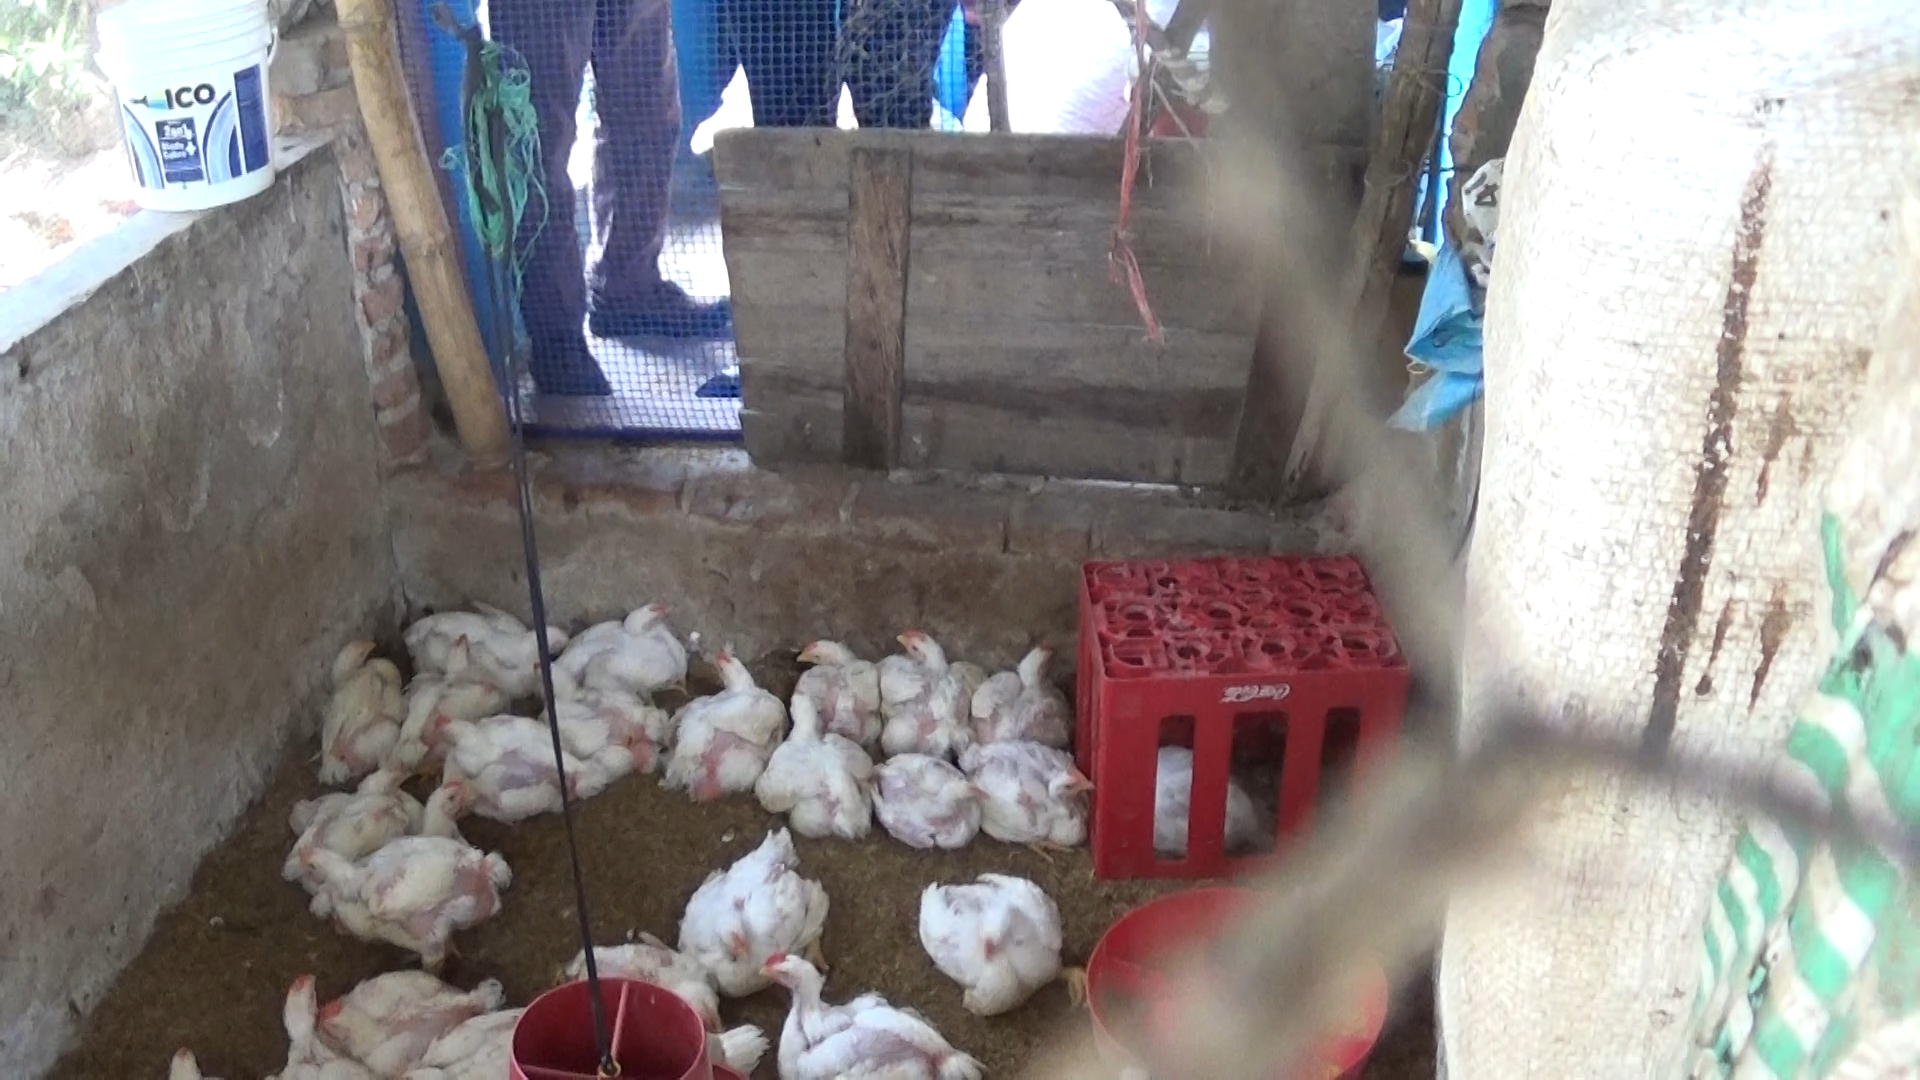Pollos: (752, 948, 981, 1080), (287, 833, 505, 968), (911, 866, 1096, 1021), (680, 822, 822, 997), (313, 956, 518, 1072), (661, 646, 783, 798), (522, 655, 665, 785), (422, 711, 580, 825), (276, 760, 426, 874), (305, 632, 410, 787), (746, 731, 885, 843), (384, 629, 502, 758), (398, 599, 570, 684), (971, 731, 1088, 855), (261, 975, 388, 1080), (873, 621, 975, 752), (963, 625, 1071, 736), (880, 740, 977, 856), (570, 589, 684, 678), (783, 634, 873, 742), (413, 775, 483, 829)
